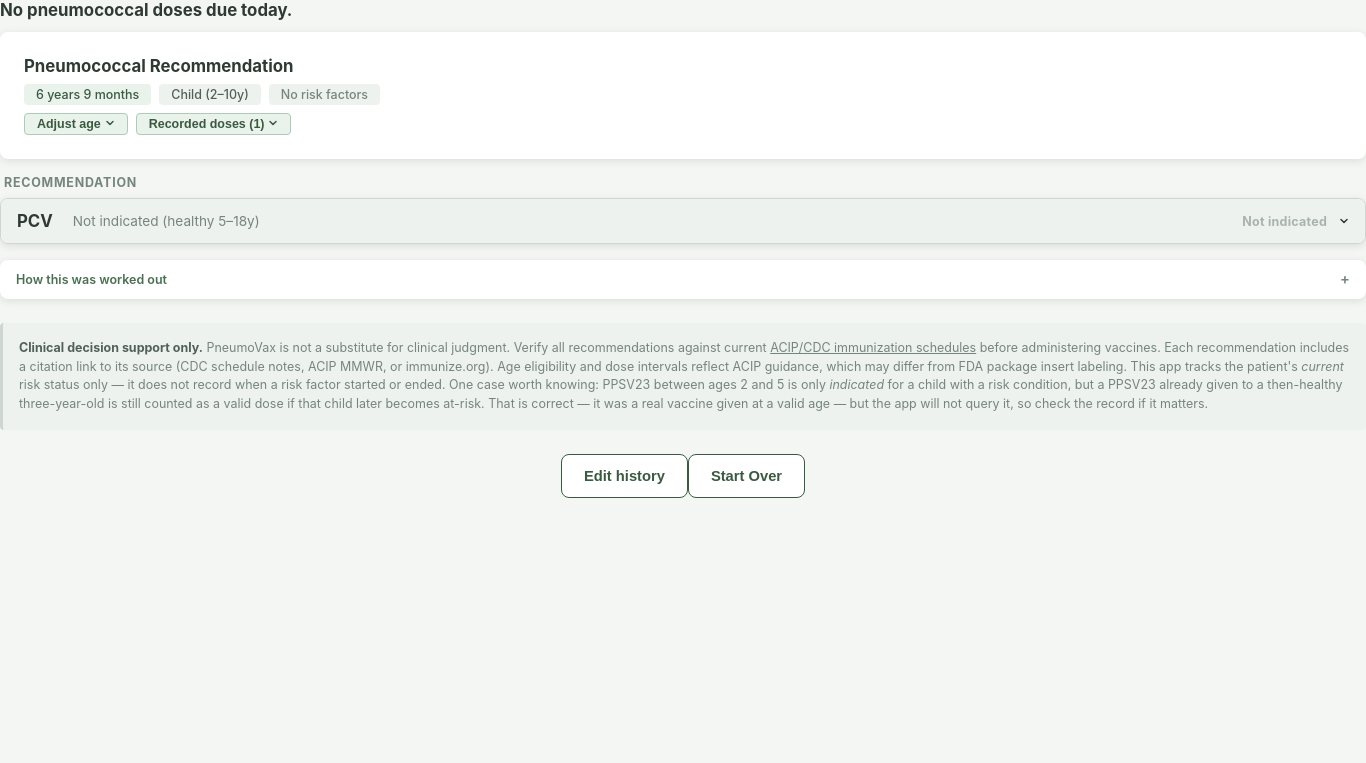
Test: the OTHER dose editor — the inline one on the results screen › warns about a before-birth date too
The image size is (1366, 763).
Step 1. Click the button "Recorded doses (1)" → (214, 124), box [136, 113, 292, 135]
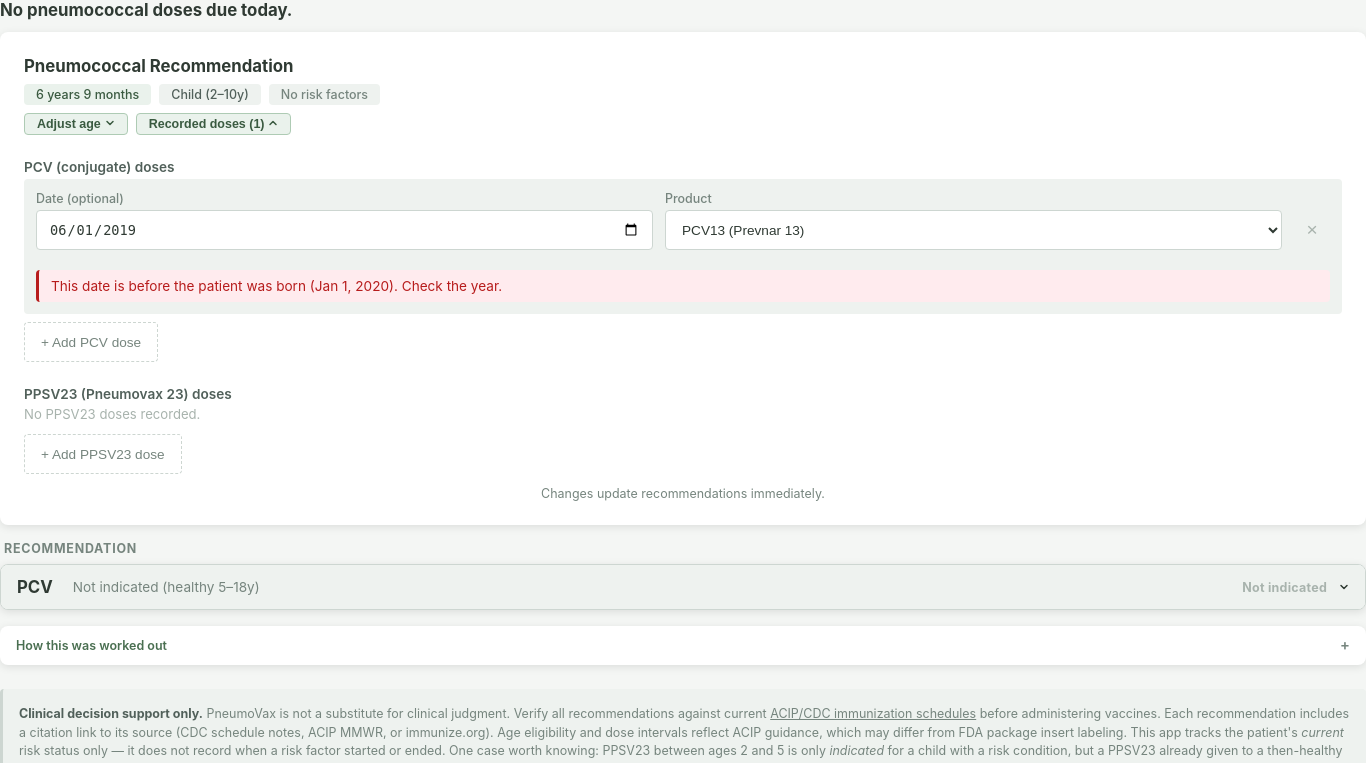
Check: the text "This date is before the patient was born (Jan 1, 2020). Check the year." is shown, box [36, 270, 1330, 302]
